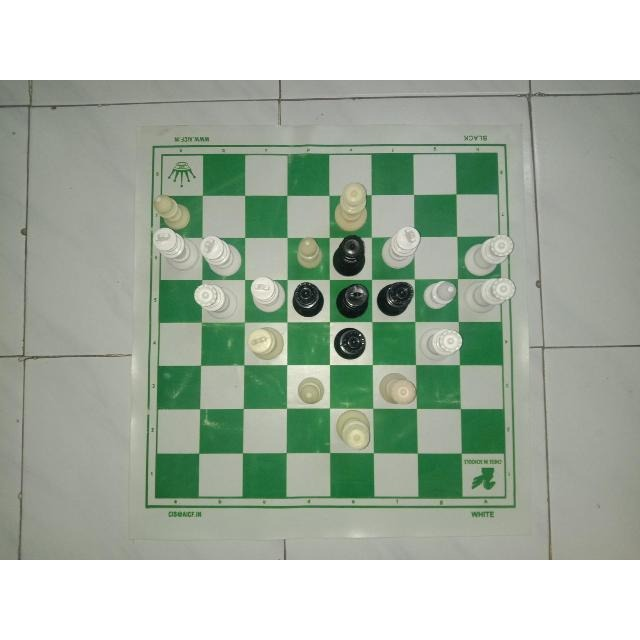black-king: (333, 279, 371, 318)
black-queen: (332, 233, 368, 277), (291, 279, 327, 322), (377, 279, 415, 316), (331, 325, 368, 363)
white-bishop: (151, 192, 191, 230), (419, 278, 458, 310), (295, 234, 327, 272), (294, 371, 326, 408)
white-king: (149, 225, 199, 271), (199, 233, 244, 277), (380, 225, 422, 269), (245, 326, 287, 366), (244, 276, 286, 314)
white-queen: (460, 278, 520, 316), (463, 233, 516, 276), (332, 180, 374, 234), (192, 280, 239, 322), (334, 406, 372, 456), (418, 326, 466, 362), (378, 371, 420, 409)
